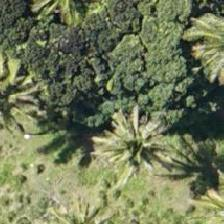coconut_tree: (91, 95, 181, 185)
